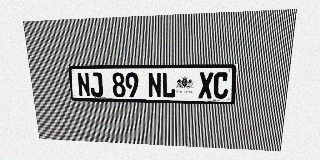8: (112, 72, 126, 97)
9: (125, 72, 139, 97)
C: (213, 72, 229, 99)
J: (89, 72, 103, 97)
L: (162, 72, 176, 98)
N: (148, 72, 162, 98), (77, 72, 91, 97)
X: (198, 72, 214, 99)
